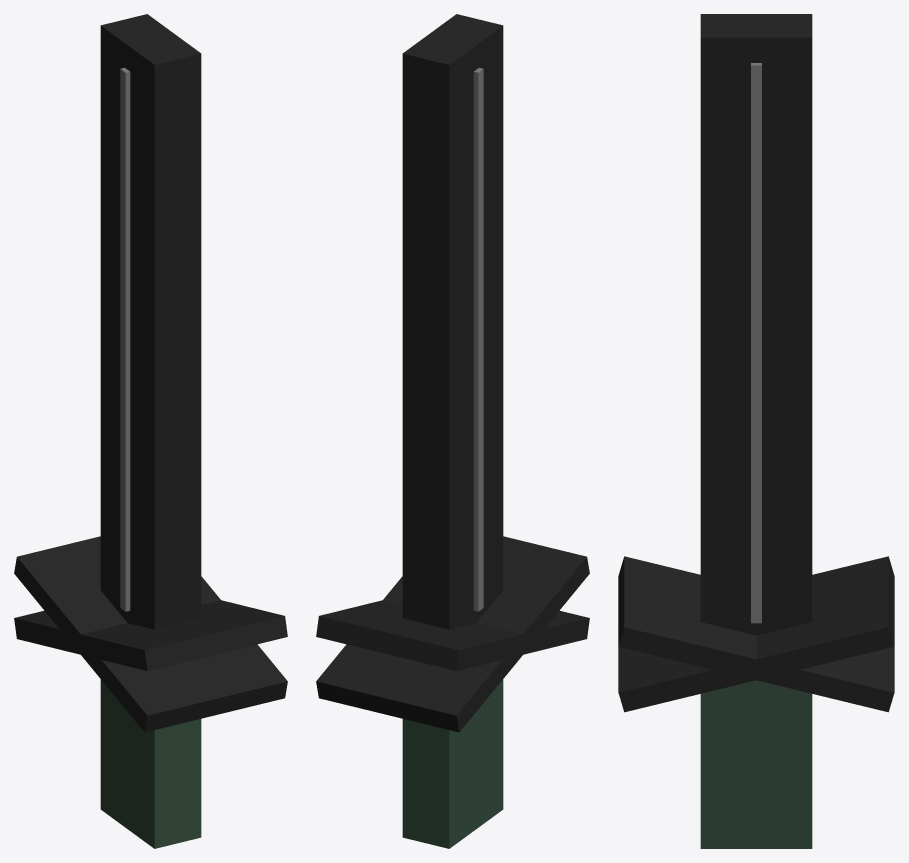
Rendered from ShadowLongSword.fbx.
3 views of the same model, side by side, from view 1: azimuth 30°, elevation 25°; view 2: azimuth 150°, elevation 25°; view 3: azimuth 270°, elevation 25° (orthographic). The views are drawn at different scales.
Parts seen in each view (by area): view 1: Cube.001, Cube.002, Cube.005, Cube.006, Cube.004; view 2: Cube.001, Cube.006, Cube.005, Cube.002, Cube.004; view 3: Cube.001, Cube.005, Cube.002, Cube.006, Cube.003.
Part boxes in pixels (x1,y1,x2,y2): Cube.001: [100, 14, 201, 629]; Cube.002: [14, 536, 287, 732]; Cube.005: [100, 679, 201, 848]; Cube.006: [14, 600, 287, 670]; Cube.004: [120, 67, 130, 611]; Cube.001: [402, 14, 503, 629]; Cube.006: [316, 536, 589, 732]; Cube.005: [402, 679, 503, 848]; Cube.002: [316, 600, 589, 670]; Cube.004: [473, 67, 483, 611]; Cube.001: [700, 14, 812, 635]; Cube.005: [700, 680, 812, 848]; Cube.002: [618, 556, 894, 712]; Cube.006: [618, 556, 894, 712]; Cube.003: [751, 63, 761, 623].
Bounding box in the file's own units: 30 × 160 × 49.33.
